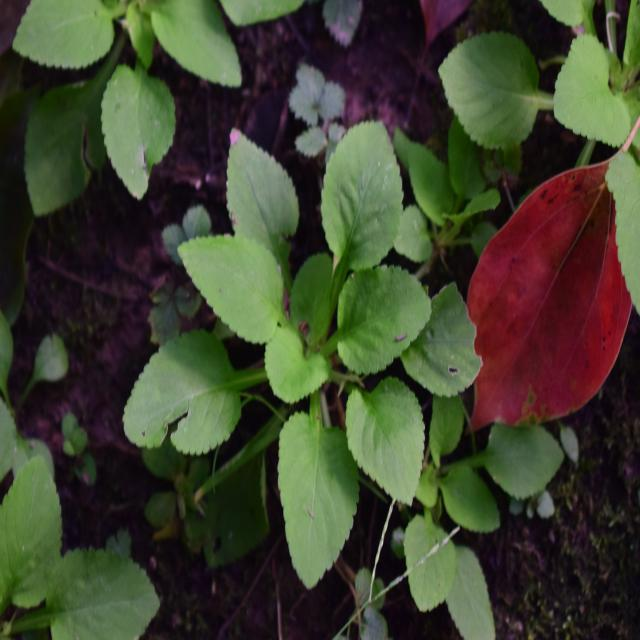Viola: (154, 140, 460, 521)
